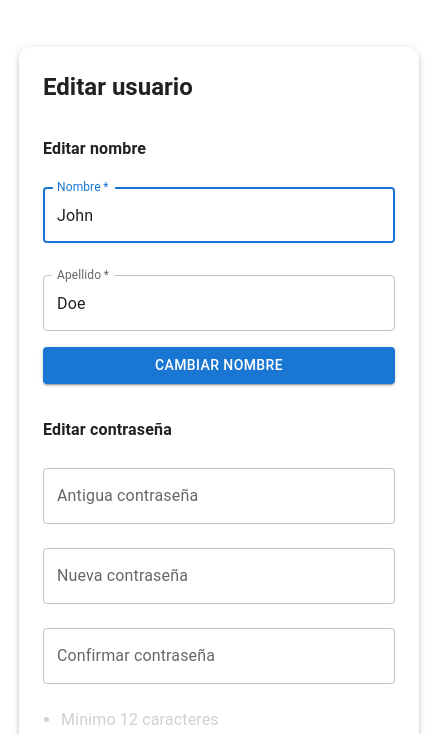
Test: UserEdit › updates the password successfully and clears the fields
Type "OldPassword1!" into the password field labelled "Antigua contraseña".
click(219, 496); type("OldPassword1!")  # box top-left (43, 468), bottom-right (395, 524)
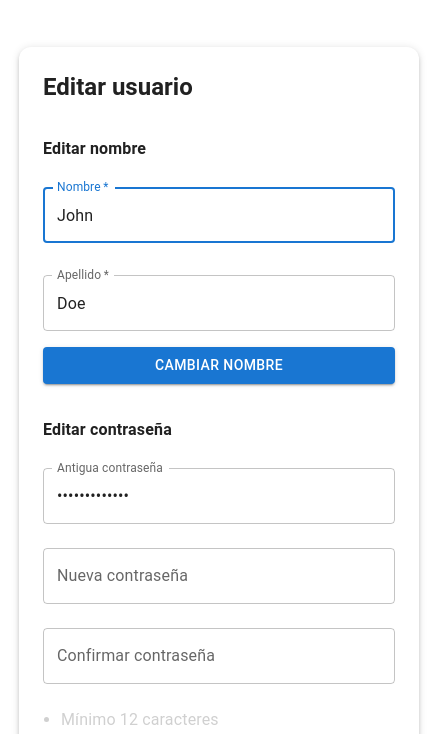
Type "NewSecurePass9!" into the password field labelled "Nueva contraseña".
click(219, 576); type("NewSecurePass9!")  # box top-left (43, 548), bottom-right (395, 604)
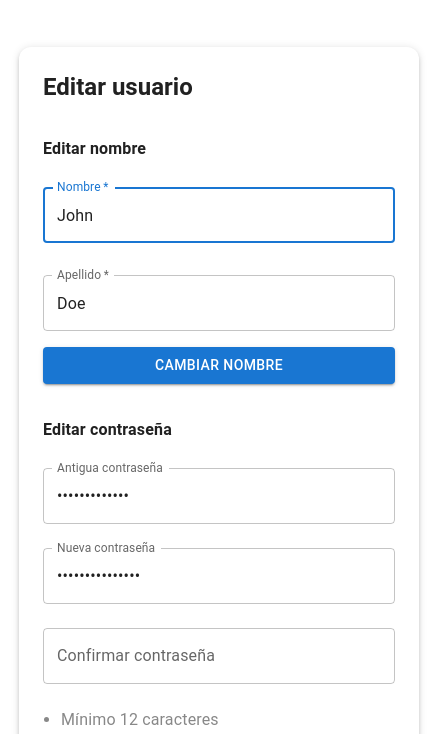
Type "NewSecurePass9!" into the password field labelled "Confirmar contraseña".
click(219, 656); type("NewSecurePass9!")  # box top-left (43, 628), bottom-right (395, 684)
(page scrolled)
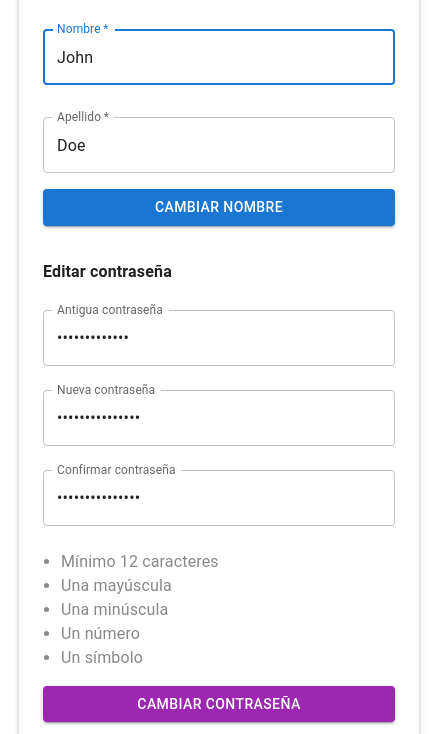
Click the button "Cambiar contraseña".
click(219, 704)  # box top-left (43, 686), bottom-right (395, 722)
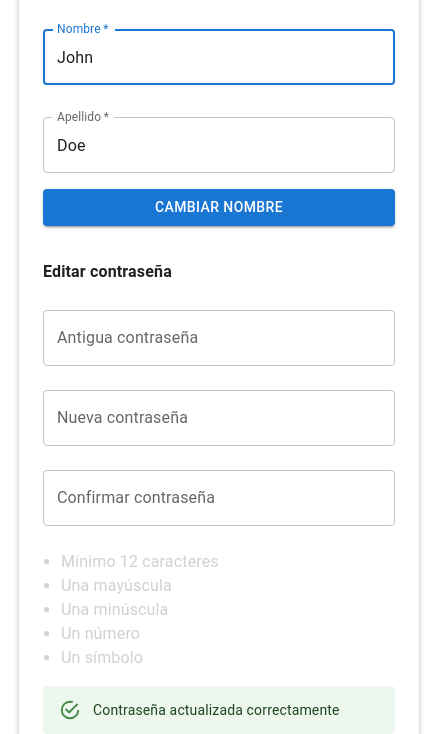
Check: the text "Contraseña actualizada correctamente" is shown, box top-left (93, 702), bottom-right (340, 718)
Check: the password field labelled "Antigua contraseña" is empty, box top-left (43, 310), bottom-right (395, 366)
